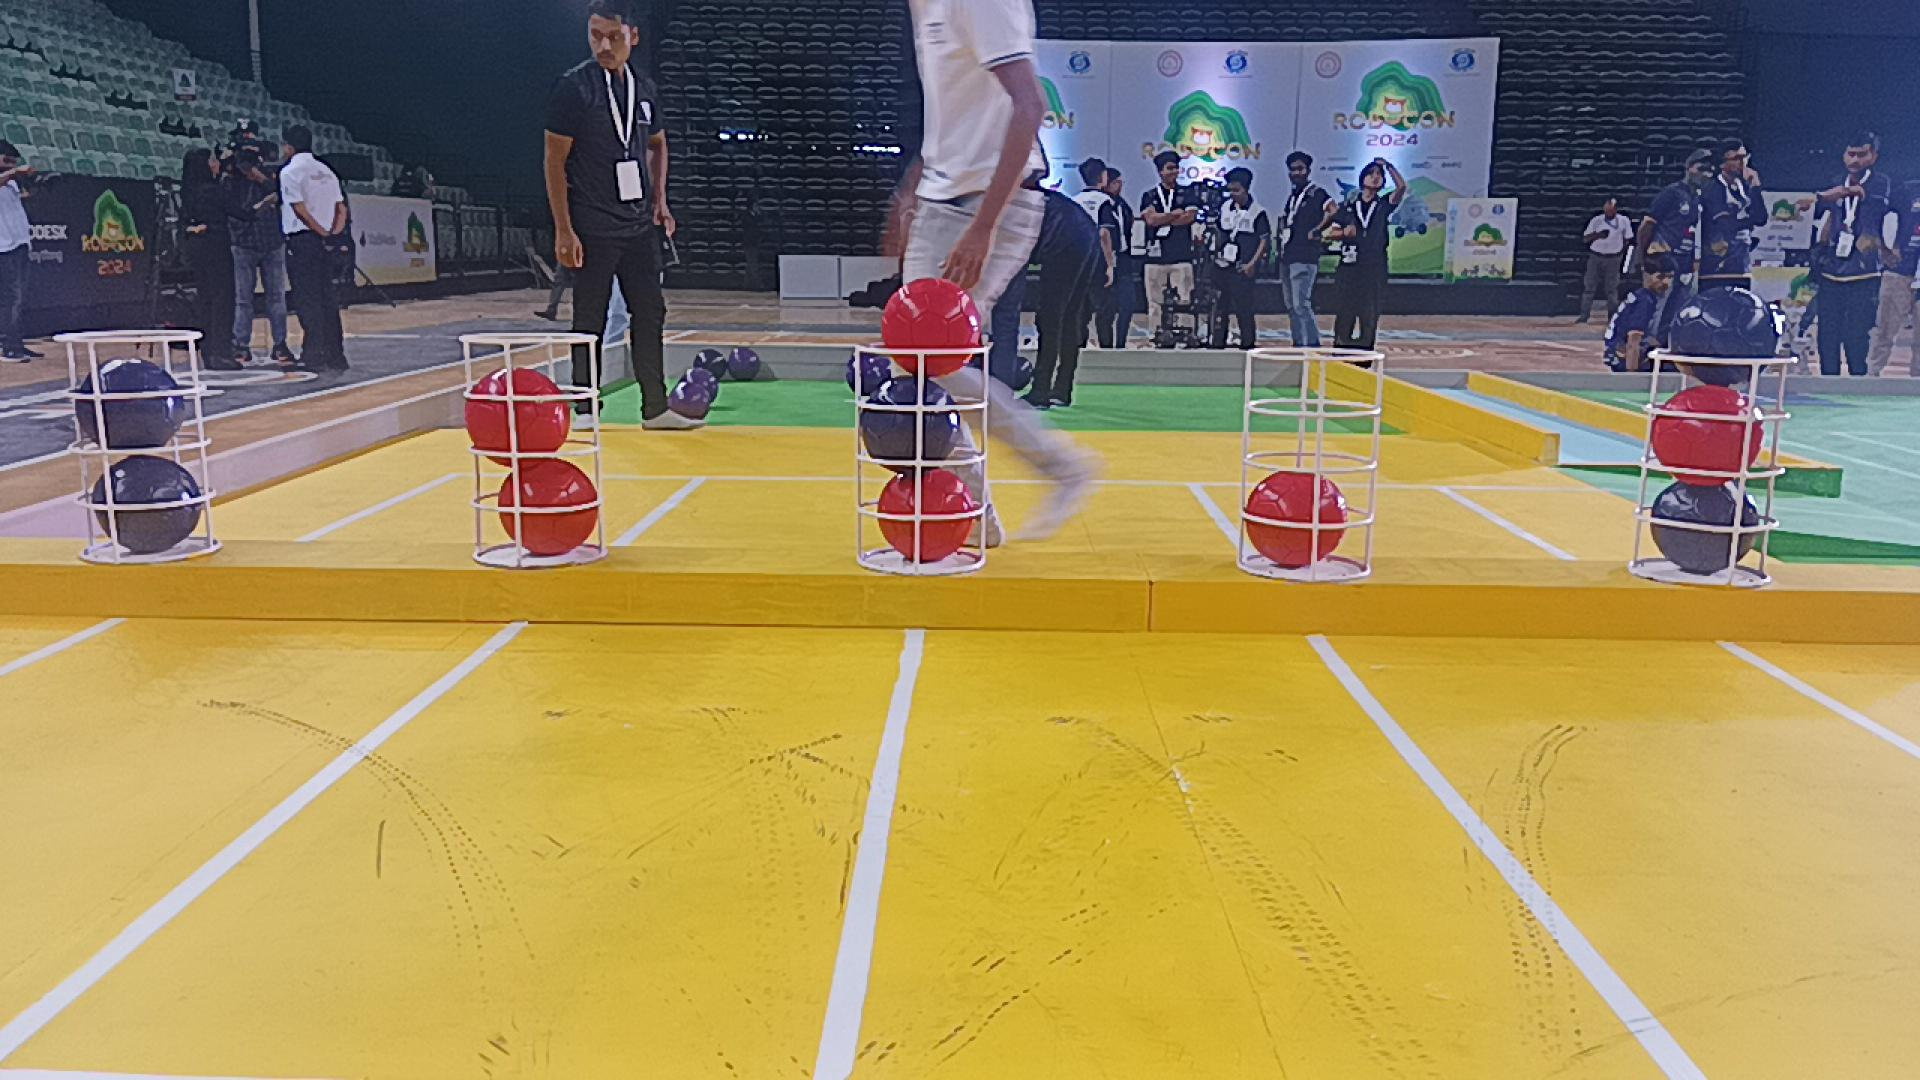dhoka: (1656, 479, 1764, 572), (90, 460, 199, 553), (76, 357, 185, 448), (860, 377, 961, 471), (1676, 287, 1778, 381)
laale: (1654, 381, 1762, 487), (1241, 469, 1346, 568), (465, 367, 567, 467), (498, 460, 600, 558), (882, 278, 980, 377), (876, 469, 972, 563)
